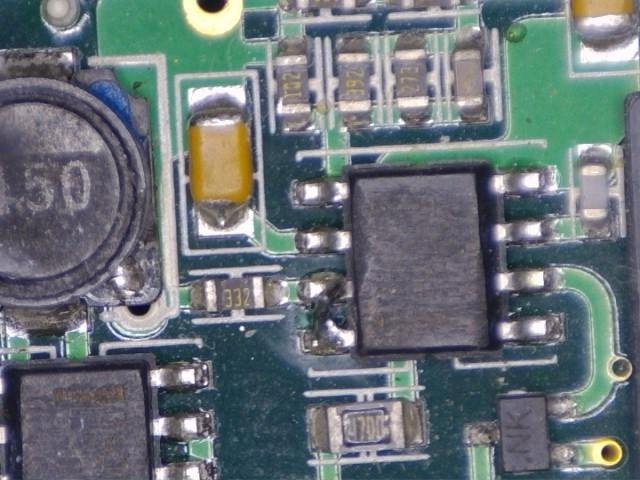pcb_defect: (298, 272, 356, 355)
